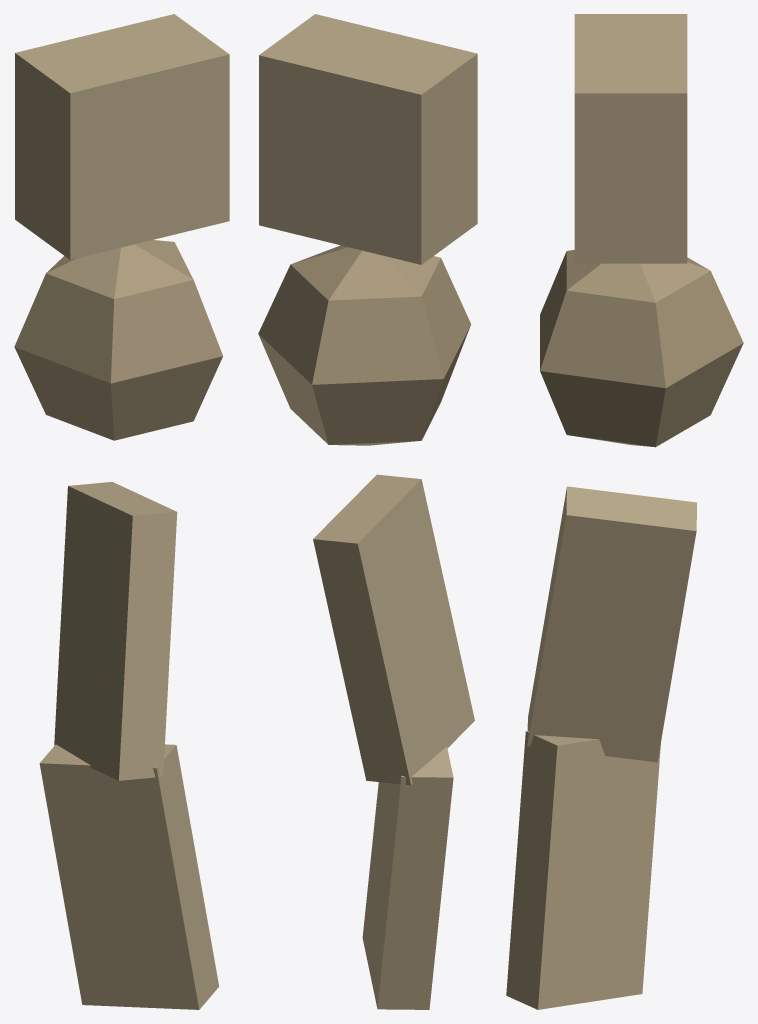
The model's file is gear_norigae_t1_R.glb.
3 renders of one model, left to right at view 1: azimuth 30°, elevation 25°; view 2: azimuth 150°, elevation 25°; view 3: azimuth 270°, elevation 25°, orthographic. The views are drawn at different scales.
Parts seen in each view (by area): view 1: gear_norigae_t1_R; view 2: gear_norigae_t1_R; view 3: gear_norigae_t1_R.
Boxes of the visible parts, x1,y1,x2,y2 form: gear_norigae_t1_R: (14,14,229,1009); gear_norigae_t1_R: (258,14,477,1009); gear_norigae_t1_R: (506,14,743,1009).
Size of the model in its own units: 0.0571 by 0.2794 by 0.0632.
